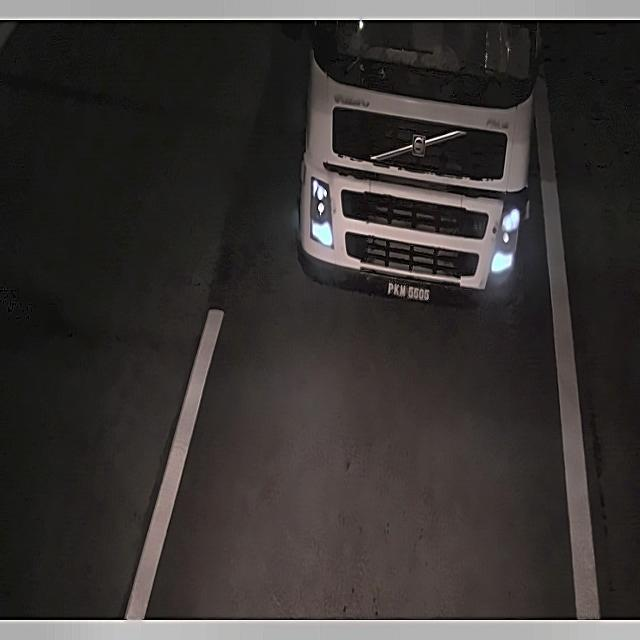car: (382, 279, 435, 308)
